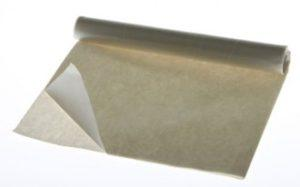paper: (15, 17, 289, 176)
